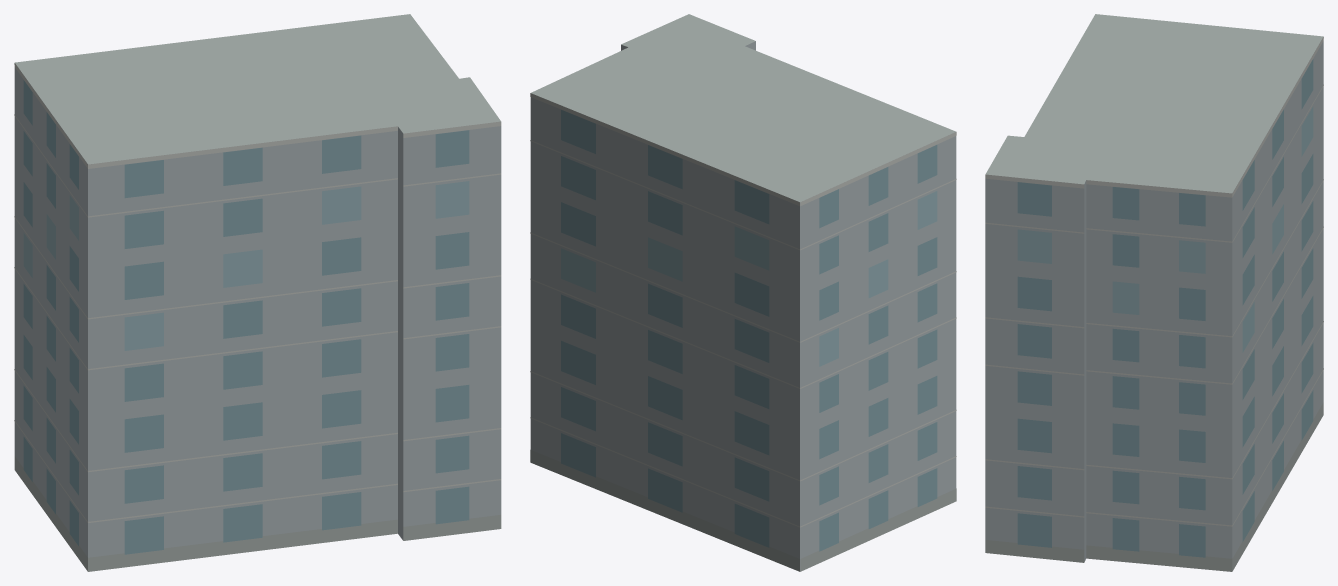
Rendered from survey-upis-32871564.glb.
The picture shows the model from 3 angles, left to right: view 1: azimuth 30°, elevation 25°; view 2: azimuth 150°, elevation 25°; view 3: azimuth 270°, elevation 25°; orthographic projection. The views are drawn at different scales.
Parts seen in each view (by area): view 1: survey-upis-32871564.tmp; view 2: survey-upis-32871564.tmp; view 3: survey-upis-32871564.tmp.
Boxes of the visible parts, x1,y1,x2,y2 form: survey-upis-32871564.tmp: (14,14,501,571); survey-upis-32871564.tmp: (530,14,956,571); survey-upis-32871564.tmp: (985,14,1323,571).
Bounding box in the file's own units: 22.49 × 22.1 × 17.93.
